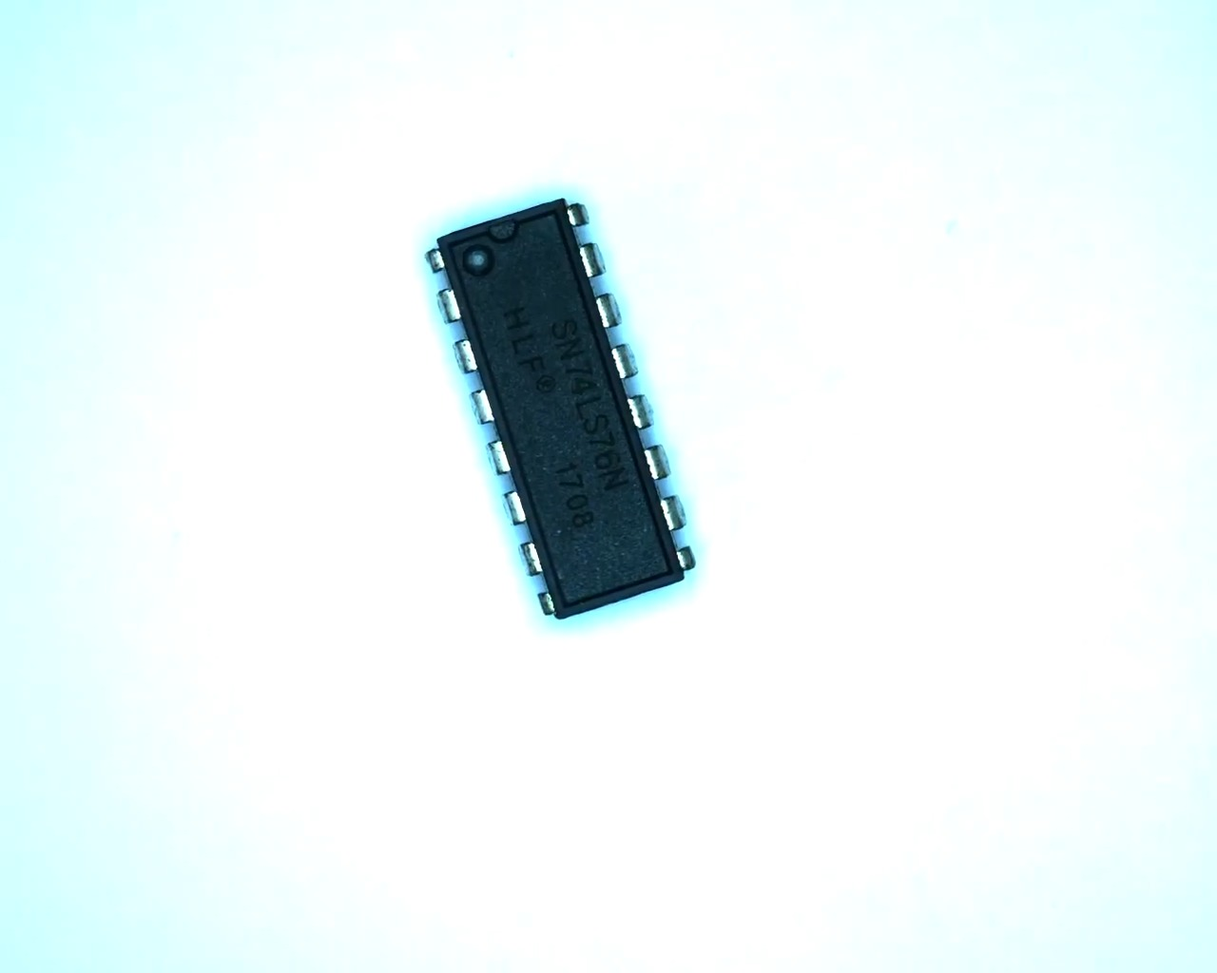IC: (408, 183, 716, 636)
notch: (481, 210, 524, 248)
